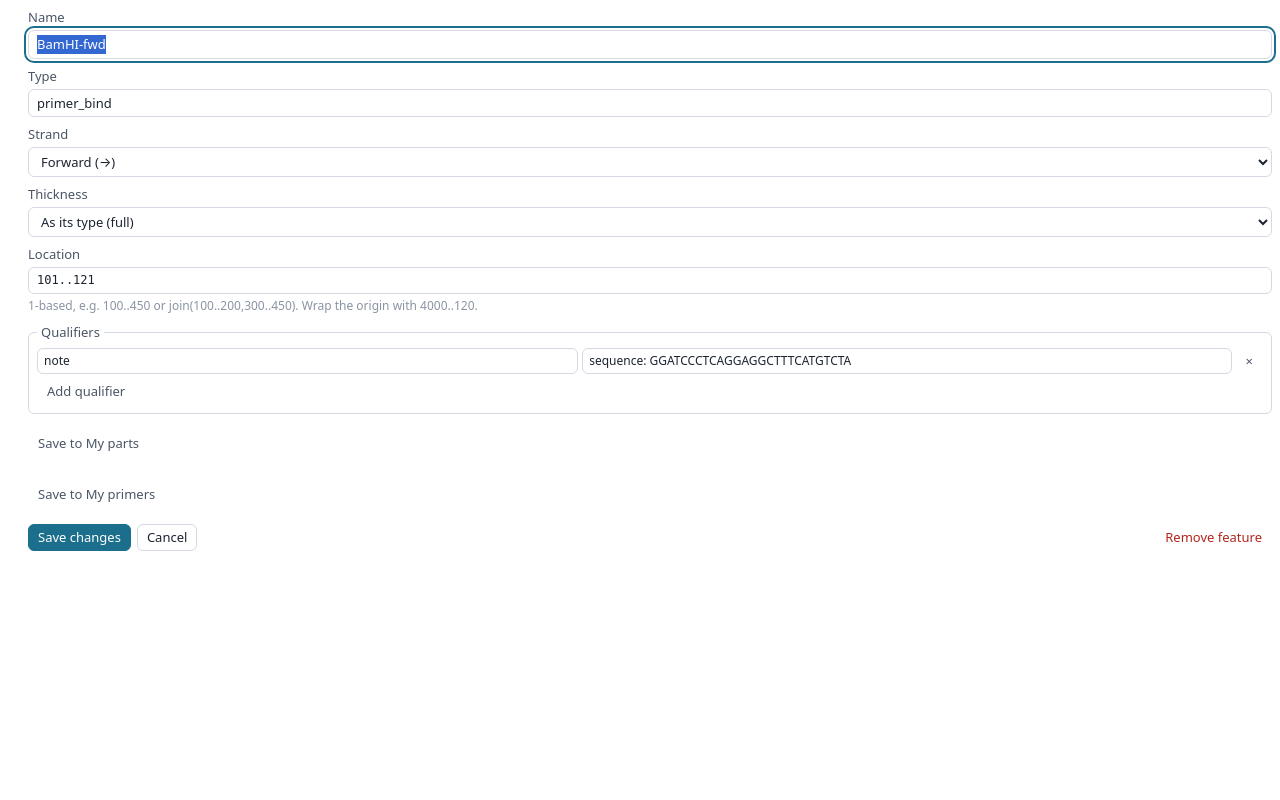
My primers › takes a primer_bind feature, with the oligo its note carries
This screenshot has width=1280, height=800.
Click the button "Save to My primers" at [97, 494], box [28, 481, 165, 508]
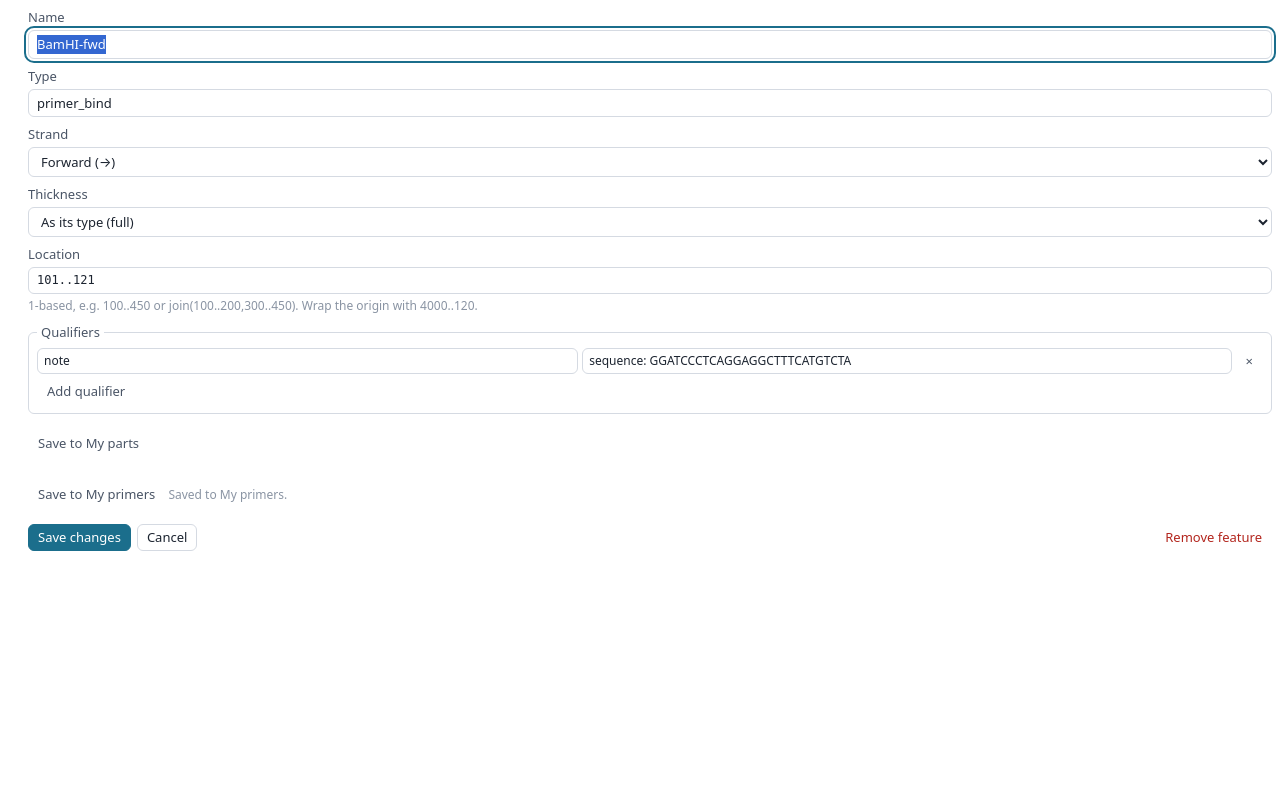
expect the text "Save to My primers Saved to My primers." is shown: met, box [28, 481, 287, 508]
